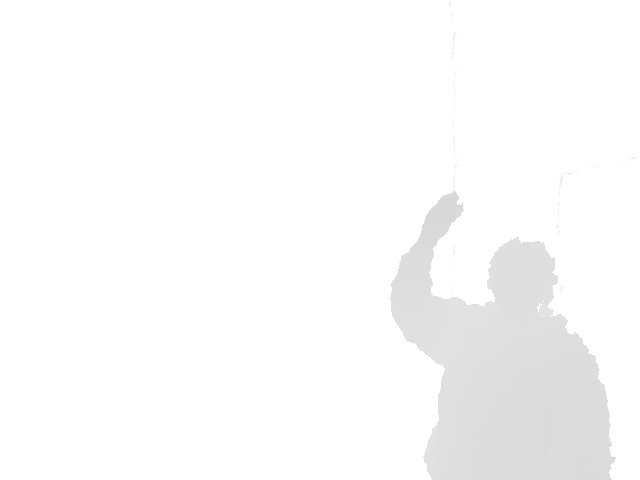hand: (419, 192, 465, 247)
head: (485, 236, 560, 321)
person: (389, 192, 619, 480)
